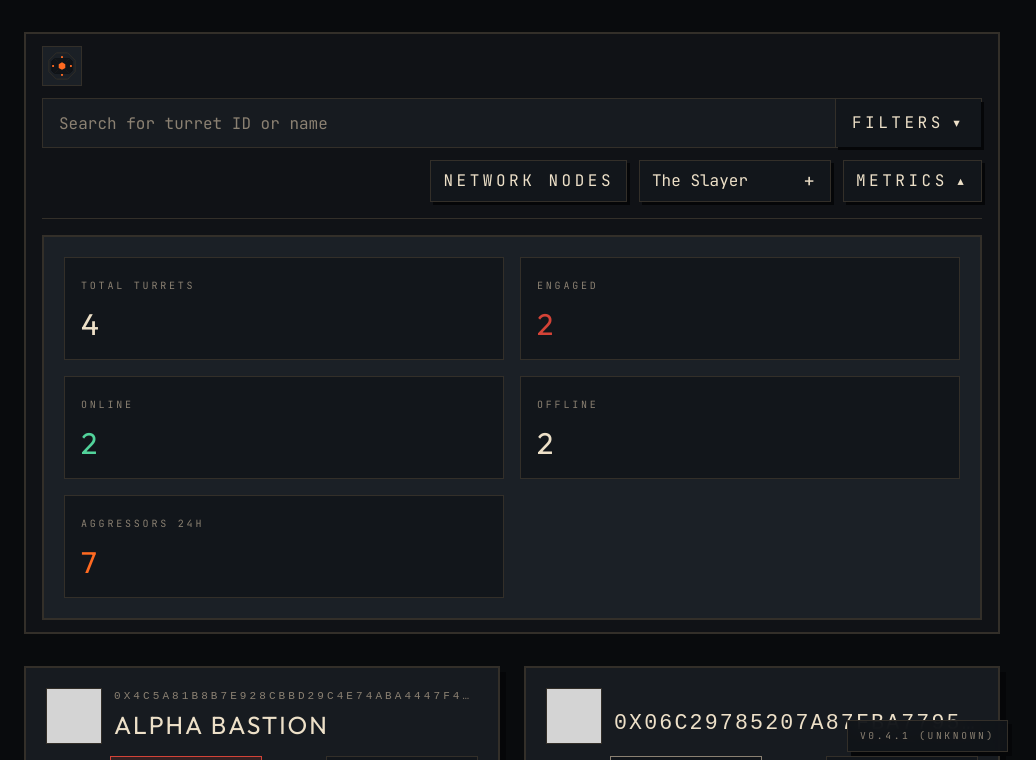
Test case: DemoApp › renders the branded dashboard shell and pilot statistics in demo mode
Expected: the picture with alt text "sentinel logo" is shown, 42,46 -> 82,86
Expected: the text "Metrics" is shown, 856,169 -> 948,193
Step 1. Click the button with aria-label "advanced search options" → (908, 123), box 835,99 -> 981,147
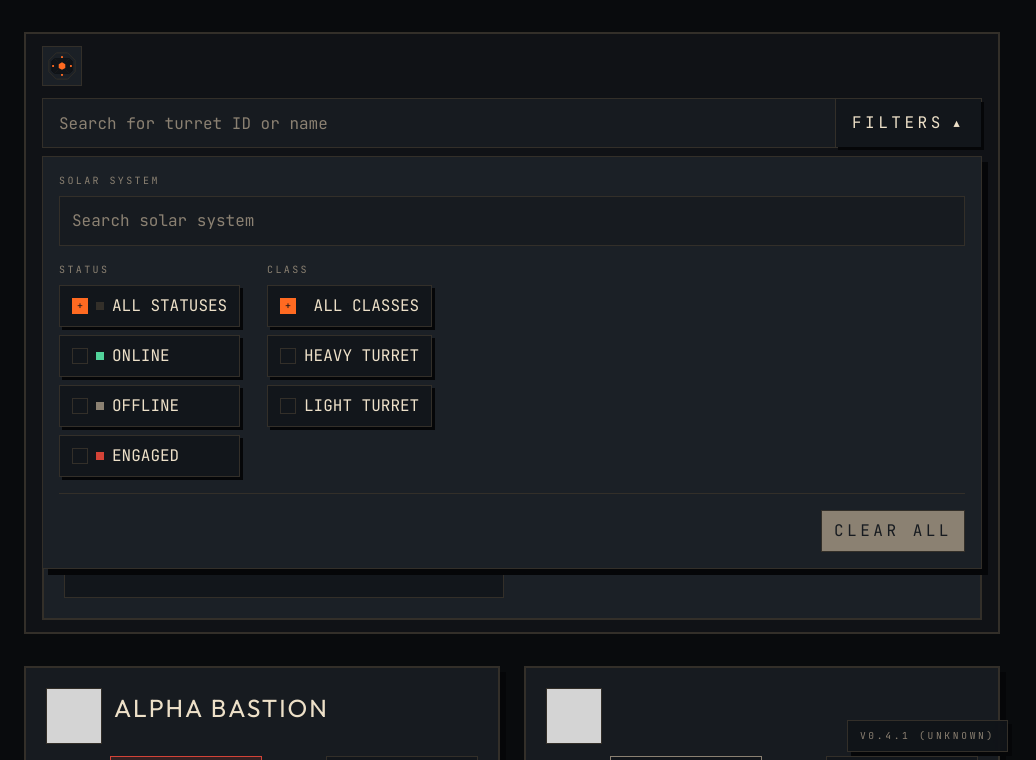
Now the button "+ ONLINE" is shown, box 59,335 -> 240,377
Now the button "+ ENGAGED" is shown, box 59,435 -> 240,477
Now the button "+ HEAVY TURRET" is shown, box 267,335 -> 432,377
